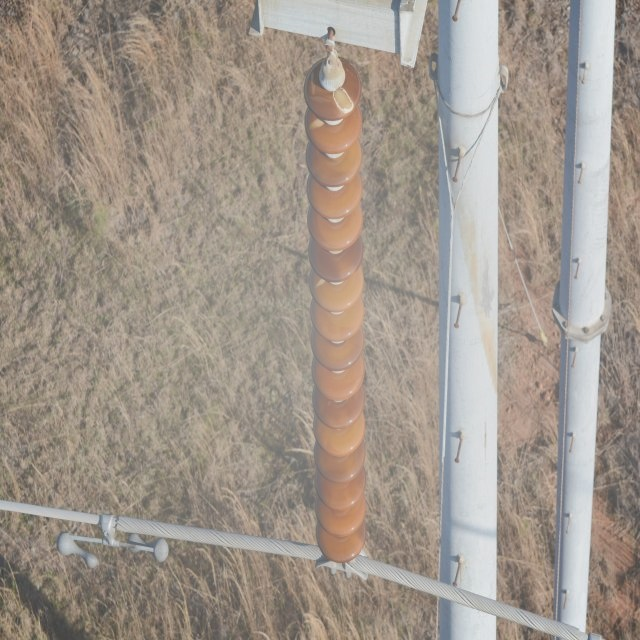insulator: (300, 62, 368, 562)
